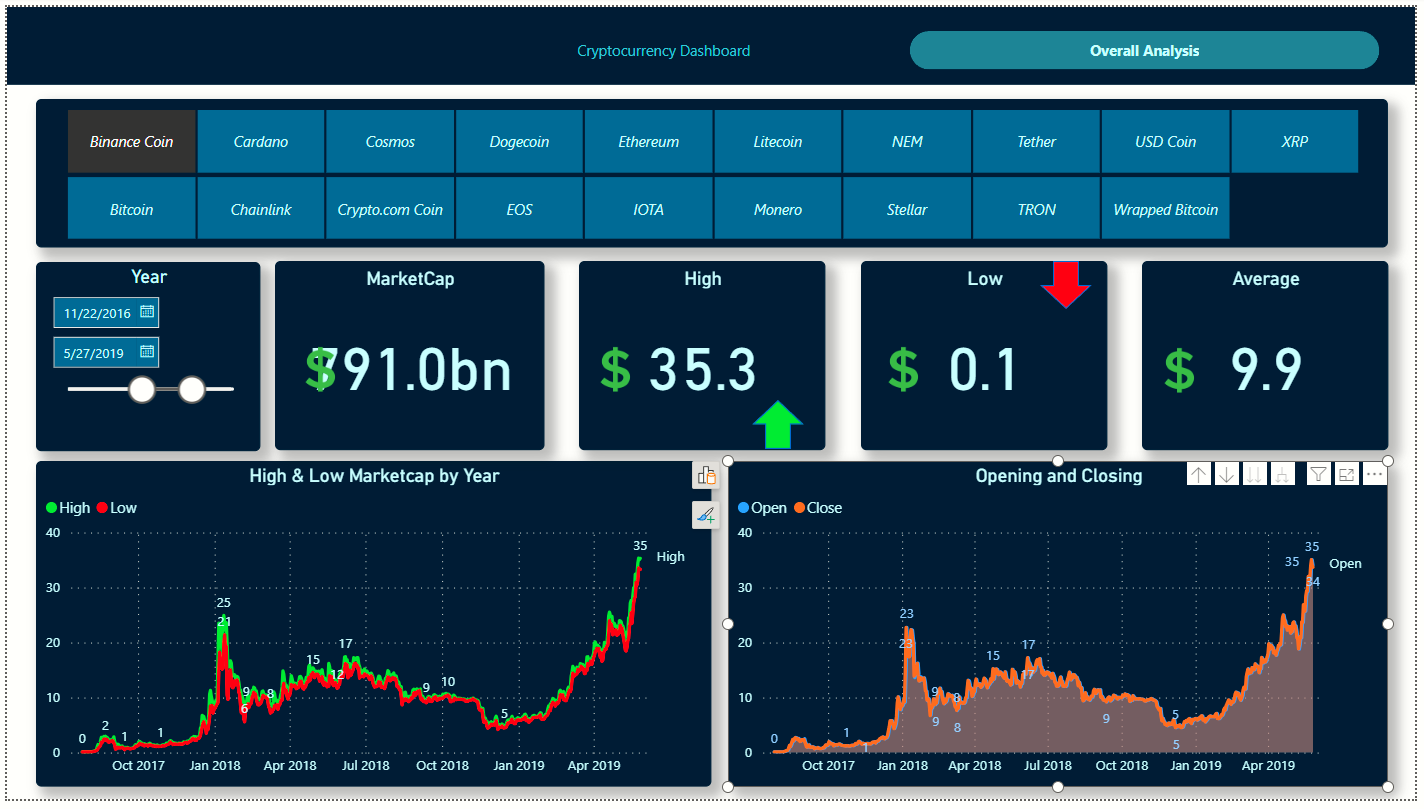

This screenshot's page, from the dashboard's own definition file:
{"tool":"powerbi","page":{"name":"Overall Analysis","canvas":[1280,720],"ordinal":1},"visuals":[{"type":"shape","box":[0,0,1280,70.8],"z":0},{"type":"pageNavigator","box":[383.6,21.8,865.9,35.8],"z":1000},{"type":"slicer","fields":{"Values":["CryptoData.Name"]},"box":[26.4,83.6,1229.1,135.5],"z":2000},{"type":"slicer","title":"Year","fields":{"Values":["CryptoData.Date"]},"box":[26.4,231.8,203.6,171.8],"z":3000},{"type":"lineChart","title":"High & Low Marketcap by Year","fields":{"Category":["CryptoData.Date.Variation.Date Hierarchy.Year","CryptoData.Date.Variation.Date Hierarchy.Quarter","CryptoData.Date.Variation.Date Hierarchy.Month","CryptoData.Date.Variation.Date Hierarchy.Day"],"Y":["Sum(CryptoData.High)","Sum(CryptoData.Low)"]},"box":[26.4,412.7,613.6,296.4],"z":4000},{"type":"card","title":"MarketCap","fields":{"Values":["Sum(CryptoData.Marketcap)"]},"box":[243.6,230.9,244.5,171.8],"z":5000},{"type":"card","title":"High","fields":{"Values":["Max(CryptoData.High)"]},"box":[520.3,230.9,223.6,171.8],"z":6000},{"type":"card","title":"Low","fields":{"Values":["Min(CryptoData.Low)"]},"box":[776.1,230.9,223.6,171.8],"z":7000},{"type":"card","title":"Average","fields":{"Values":["Avg(CryptoData.Close)"]},"box":[1031.8,230.9,223.6,171.8],"z":8000},{"type":"image","box":[257.3,301.8,55.5,55.5],"z":9000},{"type":"image","box":[525.5,301.8,55.5,55.5],"z":10000},{"type":"image","box":[787.3,301.8,55.5,55.5],"z":11000},{"type":"image","box":[1038.2,302.7,55.5,55.5],"z":12000},{"type":"shape","box":[677.3,357.3,47.3,44.5],"z":13000},{"type":"shape","box":[939.1,230.9,47.3,43.6],"z":14000},{"type":"areaChart","title":"Opening and Closing ","fields":{"Category":["CryptoData.Date.Variation.Date Hierarchy.Year","CryptoData.Date.Variation.Date Hierarchy.Quarter","CryptoData.Date.Variation.Date Hierarchy.Month","CryptoData.Date.Variation.Date Hierarchy.Day"],"Y":["Max(CryptoData.Open)","Min(CryptoData.Close)"]},"box":[655.5,412.7,600,296.4],"z":15000}]}

Visuals, with their boxes in screenshot pixels (x1, y1, x2, y2), scaled from the page's 1280x720 canvas onto the 1424x809 screenshot:
shape: (x1=0, y1=0, x2=1423, y2=80)
pageNavigator: (x1=427, y1=24, x2=1390, y2=65)
slicer - CryptoData.Name: (x1=29, y1=94, x2=1397, y2=246)
"Year" slicer: (x1=29, y1=260, x2=256, y2=453)
"High & Low Marketcap by Year" lineChart: (x1=29, y1=464, x2=712, y2=797)
"MarketCap" card: (x1=271, y1=259, x2=543, y2=452)
"High" card: (x1=579, y1=259, x2=828, y2=452)
"Low" card: (x1=863, y1=259, x2=1112, y2=452)
"Average" card: (x1=1148, y1=259, x2=1397, y2=452)
image: (x1=286, y1=339, x2=348, y2=401)
image: (x1=585, y1=339, x2=646, y2=401)
image: (x1=876, y1=339, x2=938, y2=401)
image: (x1=1155, y1=340, x2=1217, y2=402)
shape: (x1=753, y1=401, x2=806, y2=451)
shape: (x1=1045, y1=259, x2=1097, y2=308)
"Opening and Closing " areaChart: (x1=729, y1=464, x2=1397, y2=797)
